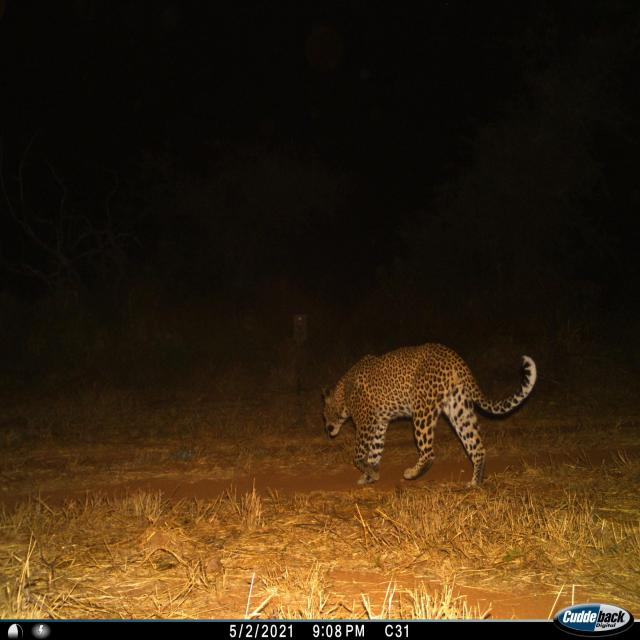Leopard: (309, 331, 543, 492)
